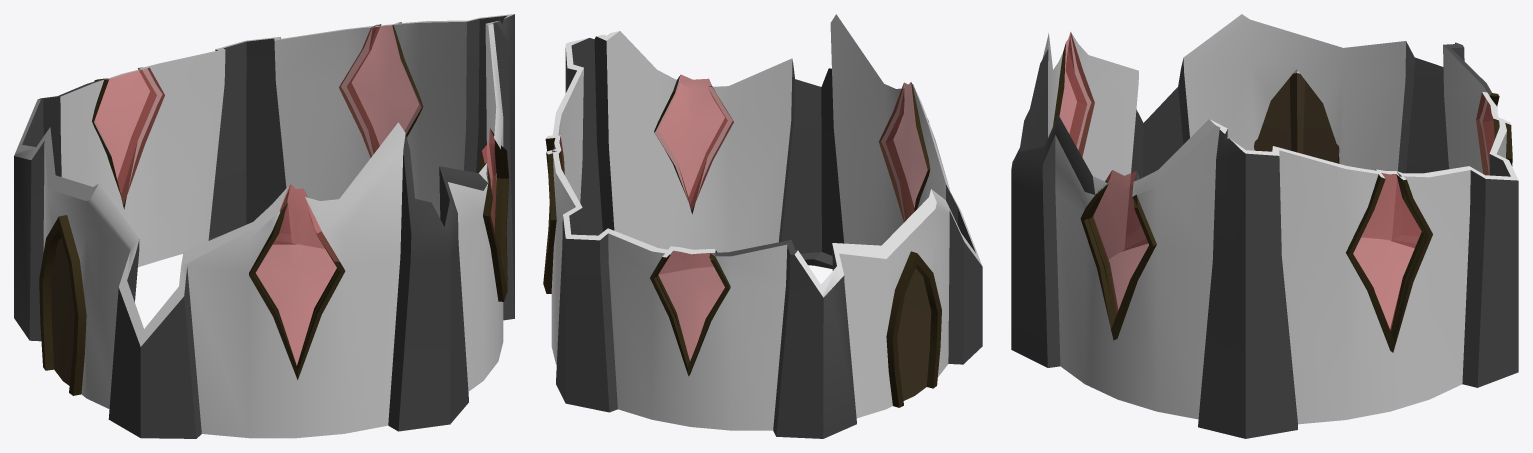
File: Tower_Small_EXT.fbx
3 renders of one model, left to right at view 1: azimuth 30°, elevation 25°; view 2: azimuth 150°, elevation 25°; view 3: azimuth 270°, elevation 25°, orthographic. The views are drawn at different scales.
Visible parts, largest first — view 1: Circle.002, door; view 2: Circle.002, door; view 3: Circle.002.
Part boxes in pixels (x1,y1,x2,y2): Circle.002: [14, 14, 514, 438]; door: [39, 215, 86, 395]; Circle.002: [543, 14, 982, 438]; door: [886, 251, 941, 407]; Circle.002: [1011, 14, 1518, 438].
Bounding box in the file's own units: 10929 × 7148 × 10914.
